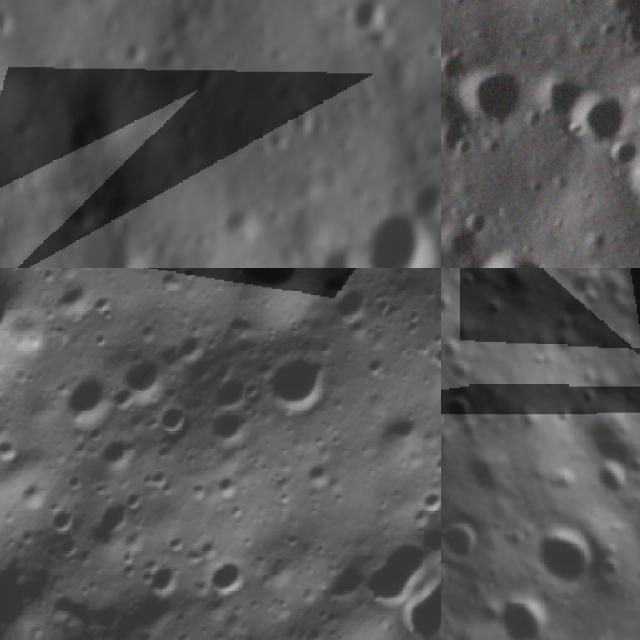crater: (484, 0, 640, 74), (441, 45, 542, 146), (516, 510, 615, 611), (549, 53, 640, 158), (556, 384, 640, 497), (347, 522, 441, 621), (252, 333, 347, 429), (48, 359, 132, 445), (215, 268, 344, 322), (515, 45, 598, 128), (81, 484, 156, 560), (187, 539, 260, 611), (464, 221, 575, 268), (348, 215, 441, 268), (483, 576, 560, 640), (192, 395, 262, 464), (114, 340, 183, 409), (461, 441, 525, 514), (194, 360, 260, 426), (134, 544, 200, 610), (86, 418, 152, 483), (441, 196, 499, 268), (322, 274, 385, 339), (142, 393, 205, 457), (59, 227, 142, 268), (501, 391, 557, 450), (441, 515, 496, 575), (585, 452, 639, 507), (611, 129, 640, 231), (296, 448, 348, 499), (441, 382, 485, 441), (39, 495, 86, 543), (441, 345, 482, 396), (342, 0, 381, 37), (0, 425, 31, 469), (447, 268, 484, 301), (414, 477, 441, 521), (579, 268, 640, 287), (441, 329, 468, 368), (423, 335, 441, 382), (441, 554, 459, 600)
